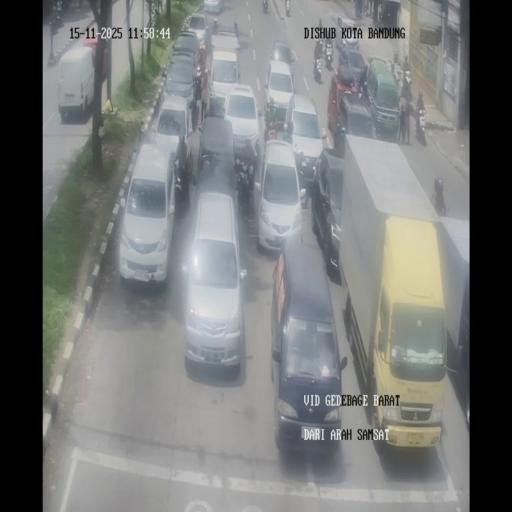3: (336, 138, 462, 448), (210, 21, 241, 53)
car: (270, 241, 343, 453), (181, 190, 247, 370), (118, 144, 176, 286), (313, 147, 344, 277), (286, 92, 324, 188), (196, 113, 236, 190), (57, 45, 97, 120), (334, 90, 377, 155), (264, 60, 296, 132), (208, 49, 241, 112), (163, 55, 198, 114), (338, 46, 368, 88), (183, 11, 210, 47), (333, 12, 358, 46), (270, 40, 294, 66), (202, 0, 224, 14)
truck: (172, 132, 191, 195), (236, 158, 254, 208), (192, 57, 204, 100), (415, 102, 427, 144), (402, 64, 412, 94), (281, 122, 294, 144), (324, 40, 334, 68), (313, 54, 323, 82), (389, 59, 399, 86), (360, 77, 370, 102), (317, 17, 324, 51), (50, 8, 59, 34), (350, 38, 360, 51), (362, 0, 369, 17), (212, 17, 218, 34), (377, 2, 382, 22), (262, 0, 268, 13), (157, 0, 162, 13), (286, 0, 290, 16)
